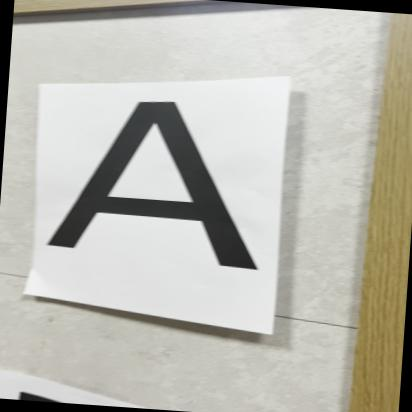seat: (39, 86, 280, 284)
